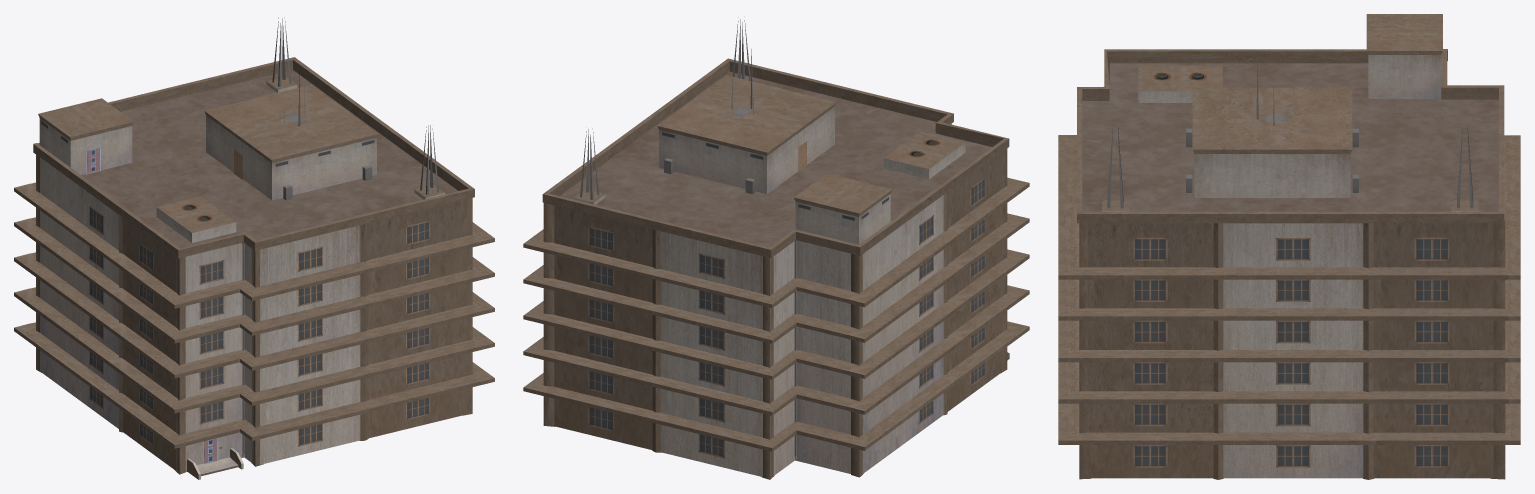
The model's file is ORB_5_Single_S6_Detail_2.fbx.
The picture shows the model from 3 angles, left to right: view 1: azimuth 30°, elevation 25°; view 2: azimuth 150°, elevation 25°; view 3: azimuth 270°, elevation 25°; orthographic projection. The views are drawn at different scales.
Parts seen in each view (by area): view 1: ORB_5_Single_S6_Detail_2; view 2: ORB_5_Single_S6_Detail_2; view 3: ORB_5_Single_S6_Detail_2.
Part boxes in pixels (<box>): ORB_5_Single_S6_Detail_2: <box>14,17,494,479</box>; ORB_5_Single_S6_Detail_2: <box>523,17,1029,479</box>; ORB_5_Single_S6_Detail_2: <box>1058,14,1520,479</box>.
Bounding box in the file's own units: 2441 × 2425 × 2676.
